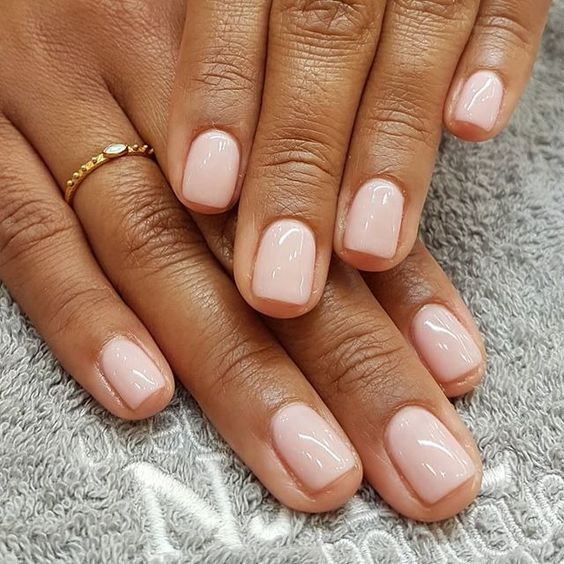nails: (373, 393, 483, 507), (253, 391, 362, 494), (83, 321, 176, 415), (402, 293, 490, 387), (249, 214, 321, 313), (340, 171, 412, 263), (175, 126, 244, 214), (447, 66, 507, 136)
